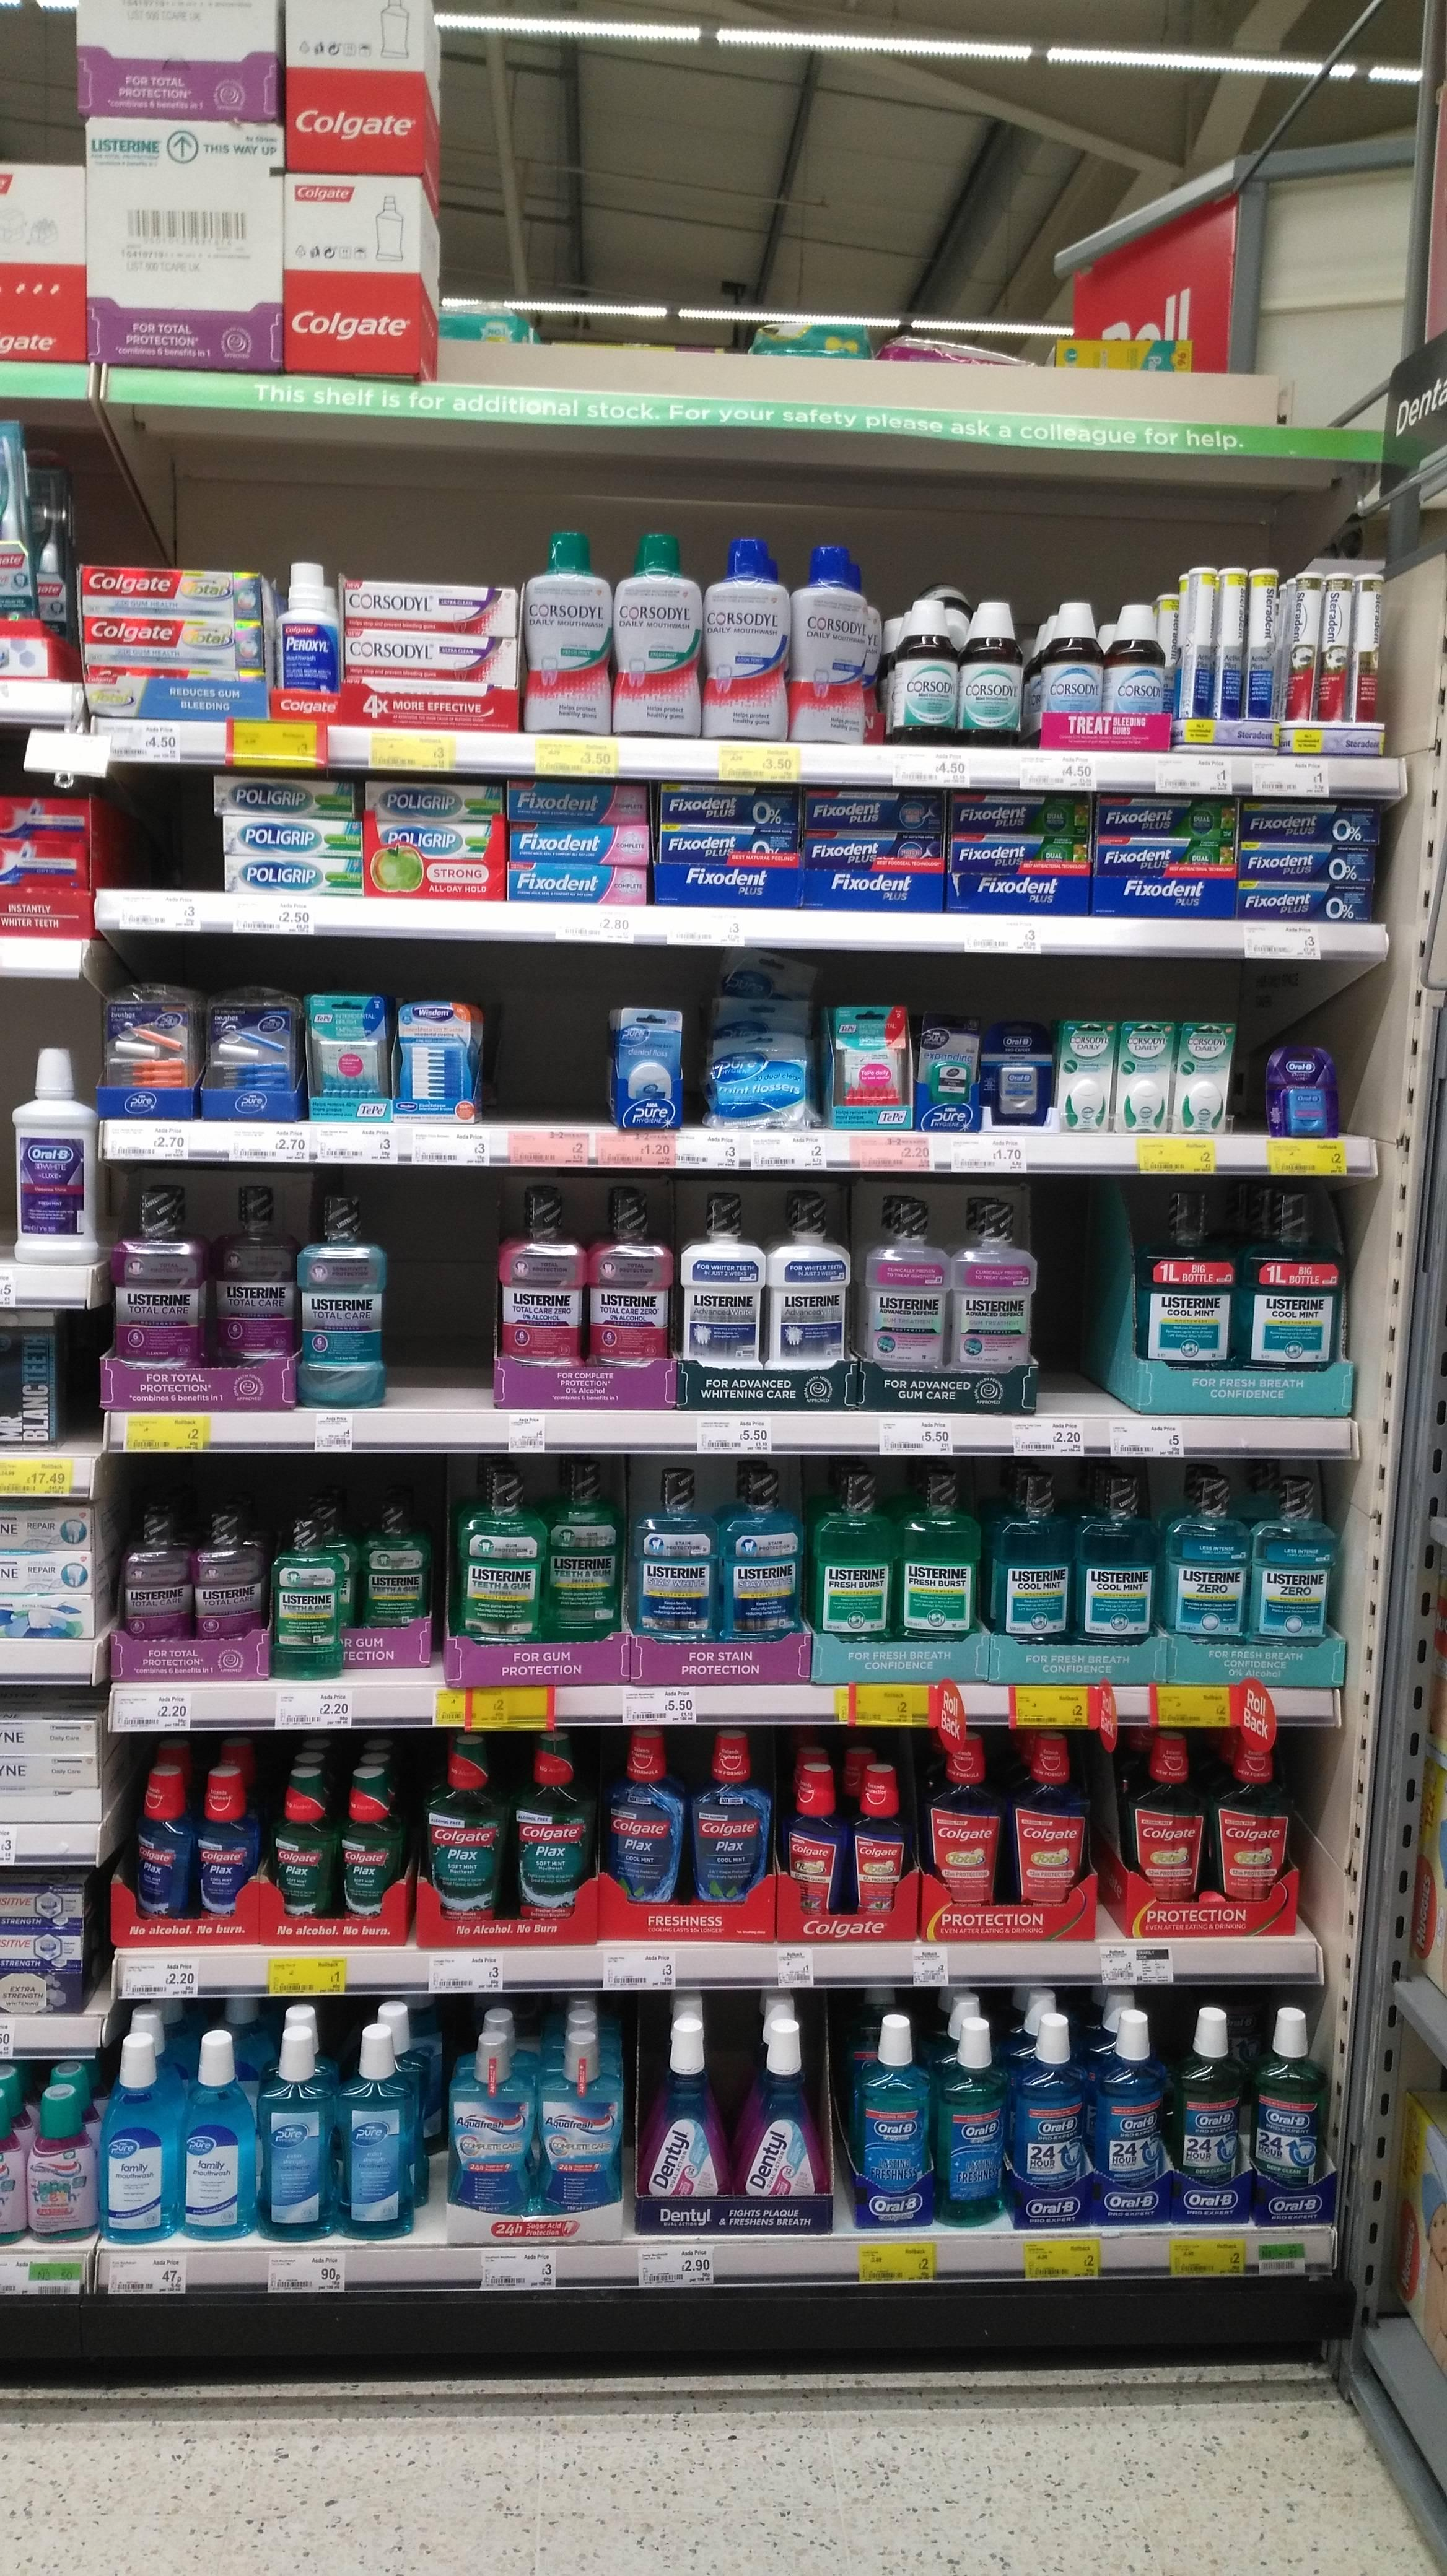empty: (391, 1215, 495, 1399), (486, 996, 603, 1129), (1033, 1242, 1120, 1412), (97, 784, 223, 897)
